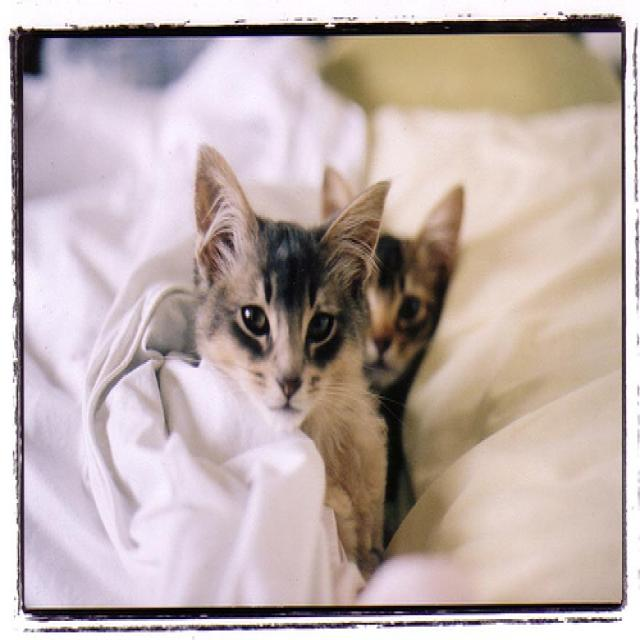cat: (191, 142, 393, 580)
